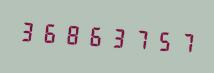eight: (61, 16, 82, 51)
five: (149, 23, 170, 57)
seven: (127, 21, 148, 55), (171, 24, 192, 58)
six: (39, 15, 60, 49), (83, 18, 104, 52)
three: (17, 13, 38, 48), (105, 19, 126, 54)
